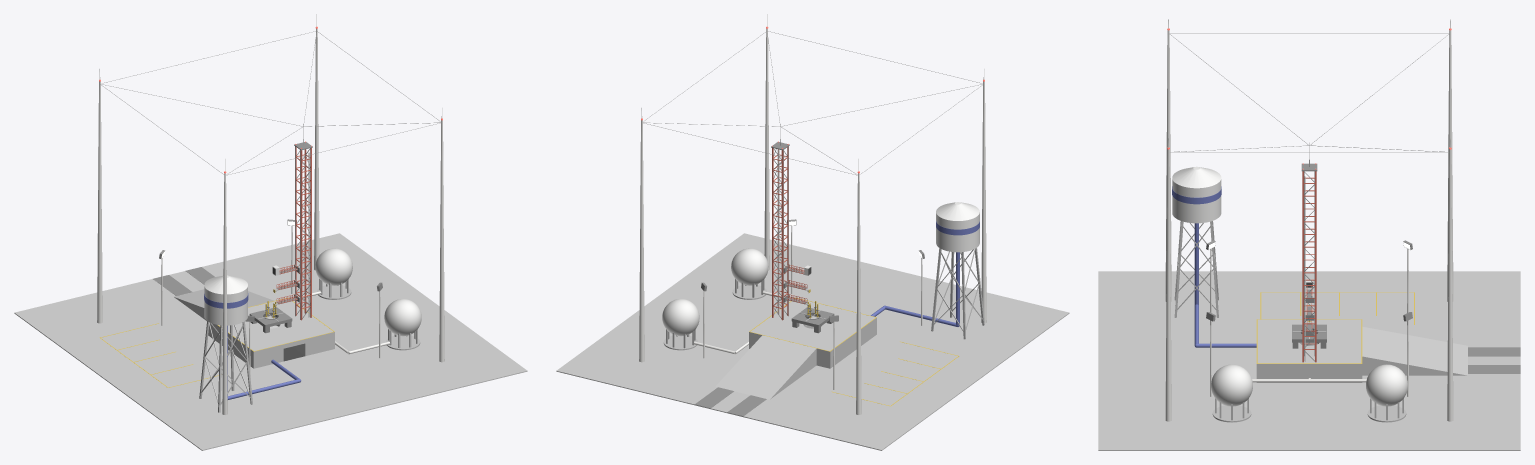
Rendered from launch-pad.glb.
3 renders of one model, left to right at view 1: azimuth 30°, elevation 25°; view 2: azimuth 150°, elevation 25°; view 3: azimuth 270°, elevation 25°, orthographic. The views are drawn at different scales.
Visible parts, largest first — view 1: hardstand, pad-plinth, lightning-masts, propellant-spheres, water-tank, water-tower-legs, tower-columns, catenary-wires, sphere-supports, crawlerway, markings, launch-mount (+1 smaller); view 2: hardstand, pad-plinth, lightning-masts, propellant-spheres, water-tank, water-tower-legs, tower-columns, catenary-wires, sphere-supports, crawlerway, markings, water-pipe (+2 smaller); view 3: hardstand, pad-plinth, lightning-masts, propellant-spheres, water-tank, sphere-supports, water-tower-legs, catenary-wires, crawlerway, water-pipe, tower-columns, markings (+4 smaller).
Part boxes in pixels (x1,y1,x2,y2): hardstand: (14,233,527,450); pad-plinth: (174,289,334,368); lightning-masts: (97,14,444,414); propellant-spheres: (315,248,421,336); water-tank: (204,275,247,325); water-tower-legs: (199,321,252,412); tower-columns: (295,146,311,320); catenary-wires: (100,31,440,175); sphere-supports: (317,279,420,350); crawlerway: (153,267,214,295); markings: (99,297,334,387); launch-mount: (249,307,292,333); hardstand: (556,233,1069,450); pad-plinth: (716,298,876,399); lightning-masts: (639,14,986,414); propellant-spheres: (662,248,768,336); water-tank: (936,202,979,252); water-tower-legs: (931,248,984,339); tower-columns: (772,146,788,320); catenary-wires: (643,31,983,175); sphere-supports: (663,279,766,350); crawlerway: (695,387,766,416); markings: (749,297,959,406); water-pipe: (870,252,959,326); hardstand: (1098,271,1520,450); pad-plinth: (1256,319,1467,382); lightning-masts: (1165,19,1453,421); propellant-spheres: (1211,364,1407,406); water-tank: (1172,166,1221,223); sphere-supports: (1212,398,1406,422); water-tower-legs: (1174,221,1218,317); catenary-wires: (1169,33,1449,152); crawlerway: (1468,347,1520,373); water-pipe: (1194,223,1256,347); tower-columns: (1302,171,1316,362); markings: (1256,292,1414,363).
Size of what is drawn, in the model's own units: 120 by 90.3 by 120.
